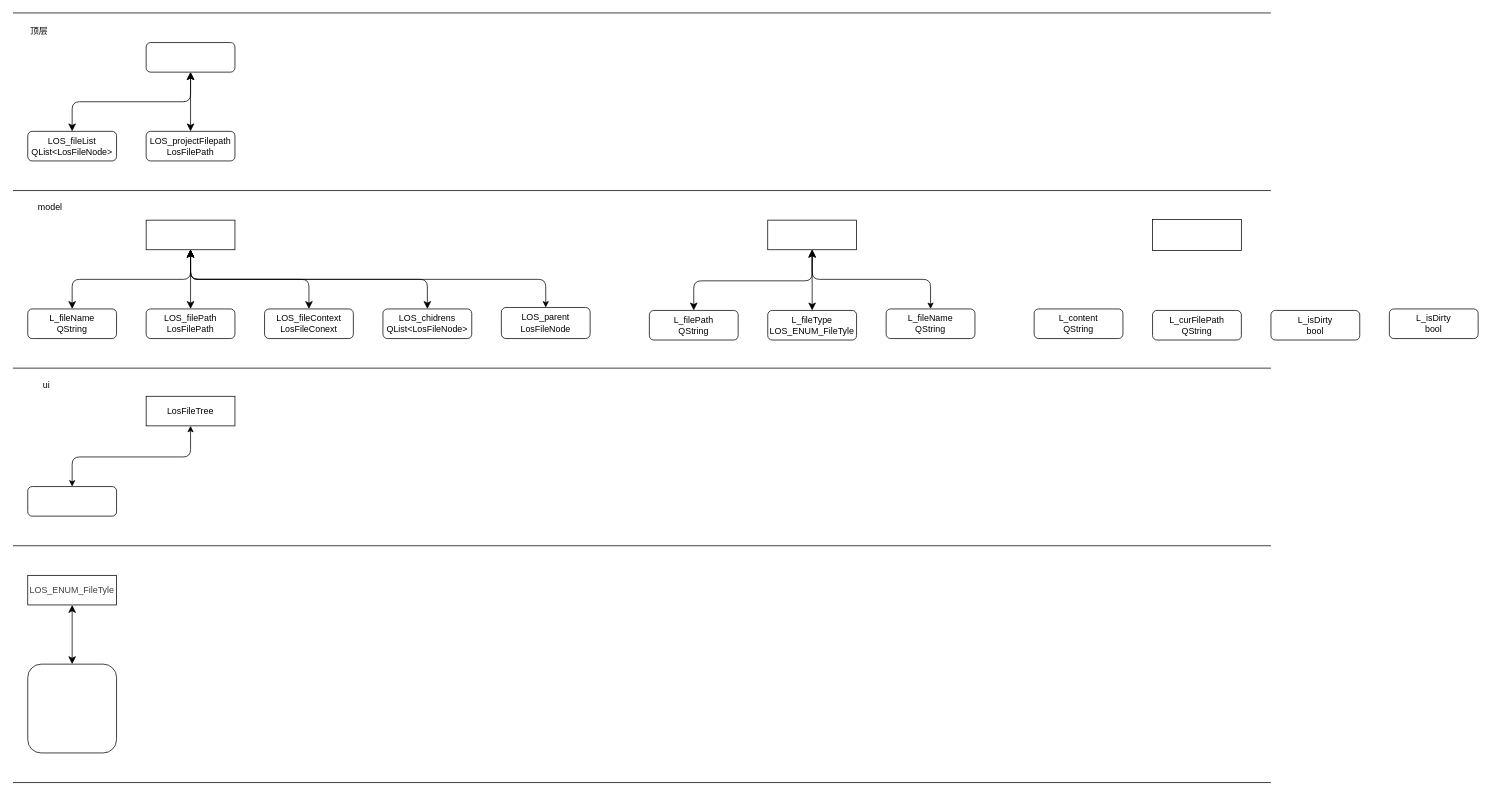
Some shapes in this 1491 by 796 pixel diagram are drawn without their labels. The shapes that lost their labels are listed below. From the top down, each one's centre as x and y in pixels, then its label:
At [190,57]: "Perseus".
At [190,234]: "LosFileNode".
At [812,234]: "LosFilePath".
At [1196,234]: "LosFileContext".
At [72,501]: "LosFileNode LOS_rootNode".
At [72,708]: "FT_CPP FT_H FT_C FT_TXT FT_OTHER FT_MD".
